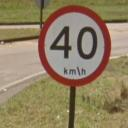speed_limit_40: (37, 4, 112, 88)
